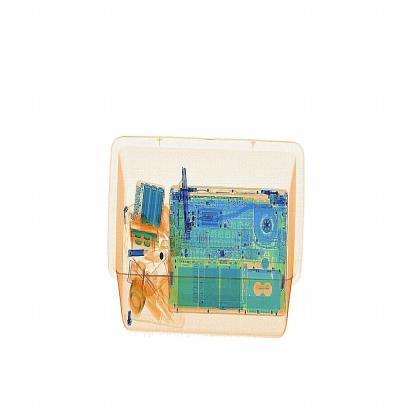pliers: (180, 162, 194, 240)
